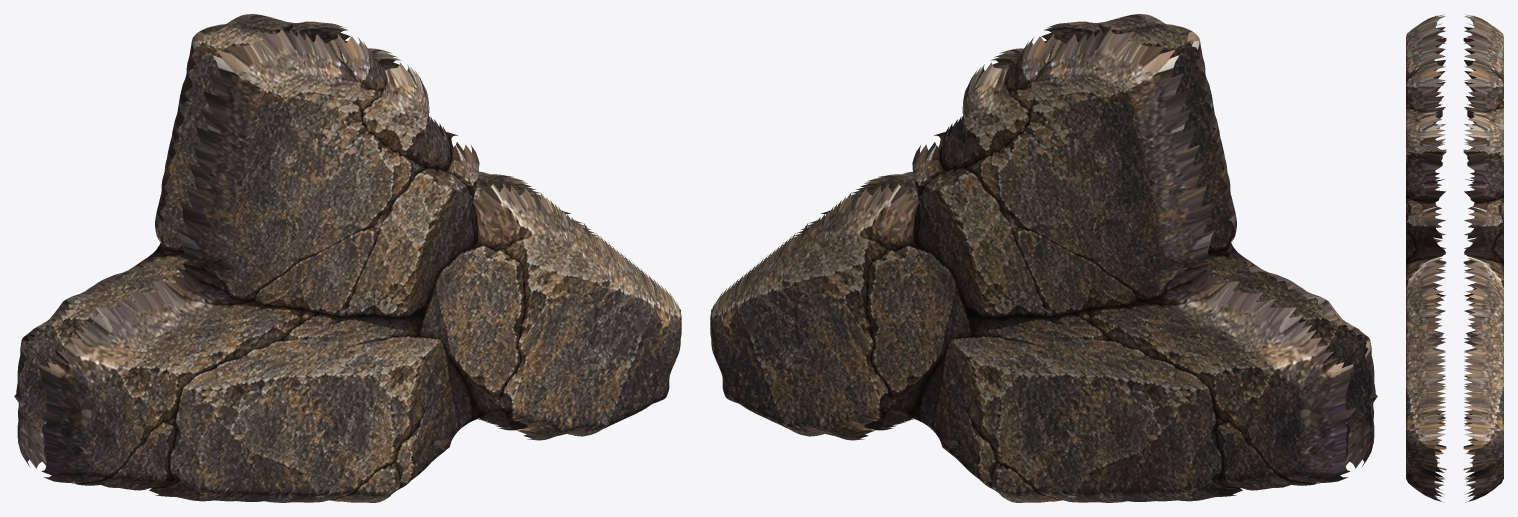
File: v4-shrine-scatter-loose-stones.glb
The picture shows the model from 3 angles, left to right: view 1: azimuth 30°, elevation 25°; view 2: azimuth 150°, elevation 25°; view 3: azimuth 270°, elevation 25°; orthographic projection. The views are drawn at different scales.
Visible parts, largest first — view 1: v4-shrine-scatter-loose-stones; view 2: v4-shrine-scatter-loose-stones; view 3: v4-shrine-scatter-loose-stones.
Boxes of the visible parts, <box> form: v4-shrine-scatter-loose-stones: <box>14,14,681,502</box>; v4-shrine-scatter-loose-stones: <box>710,14,1377,502</box>; v4-shrine-scatter-loose-stones: <box>1406,14,1503,502</box>.
Size of the model in its own units: 0.8004 by 0.5899 by 0.144.
1 material, 1 textured.
